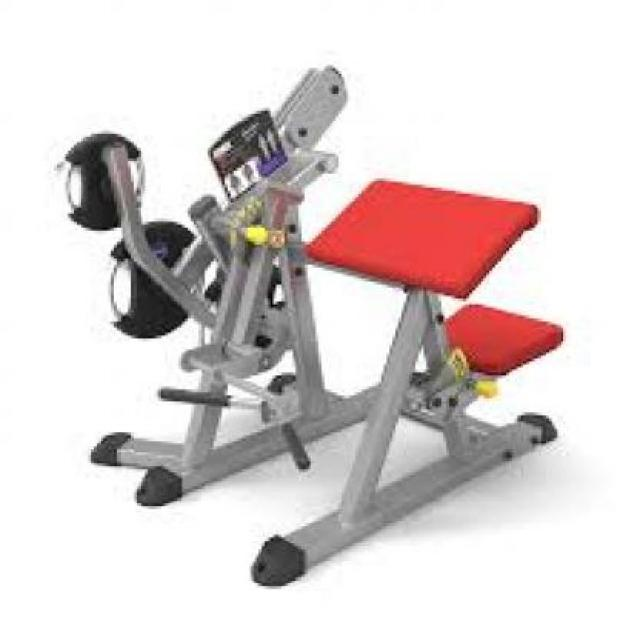arm curl machine: (49, 62, 563, 586)
